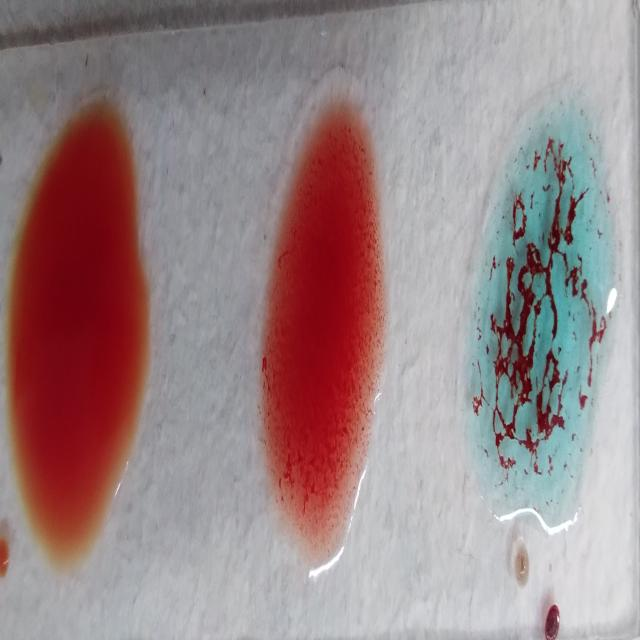A: (470, 97, 604, 543)
D: (268, 85, 380, 578)
